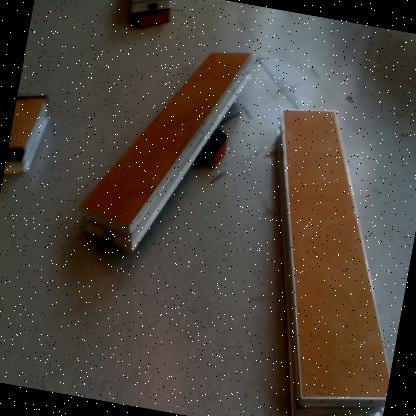Stairs: (276, 111, 391, 416), (80, 52, 253, 251), (3, 96, 52, 182), (131, 1, 172, 19)
